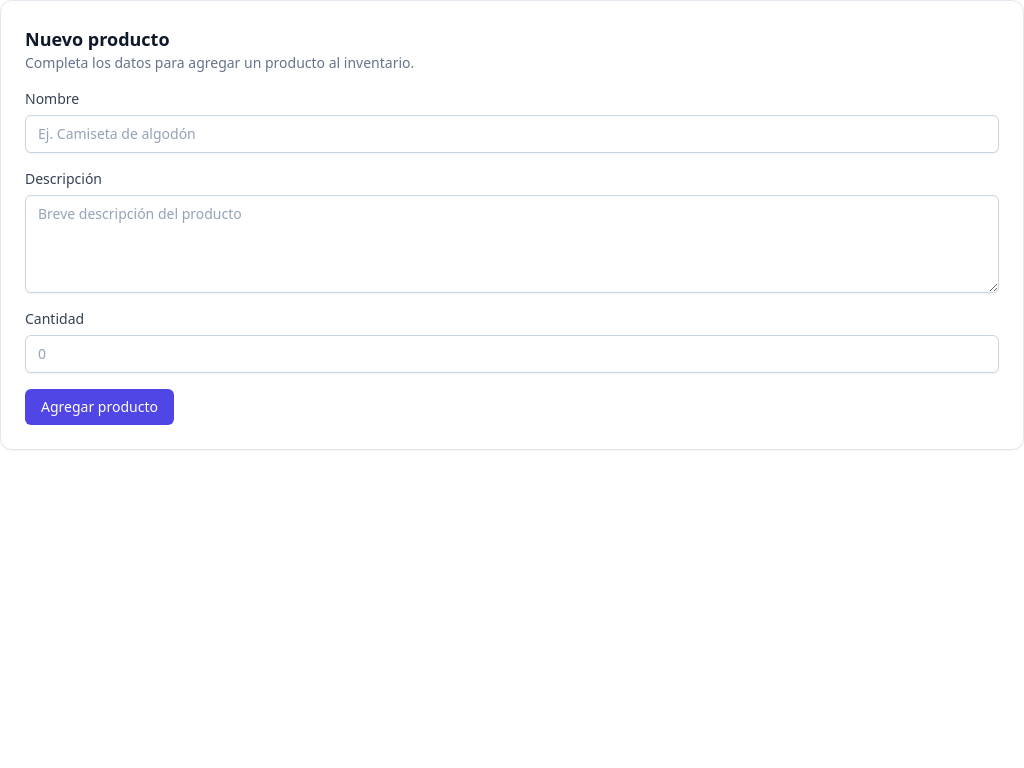
Scenario: ProductForm › create mode › shows validation errors when submitting an empty form
What coordinates should you click on to do the following:
click the button "Agregar producto"
I would click on:
 (99, 407)
Its box is [25,389,174,425].
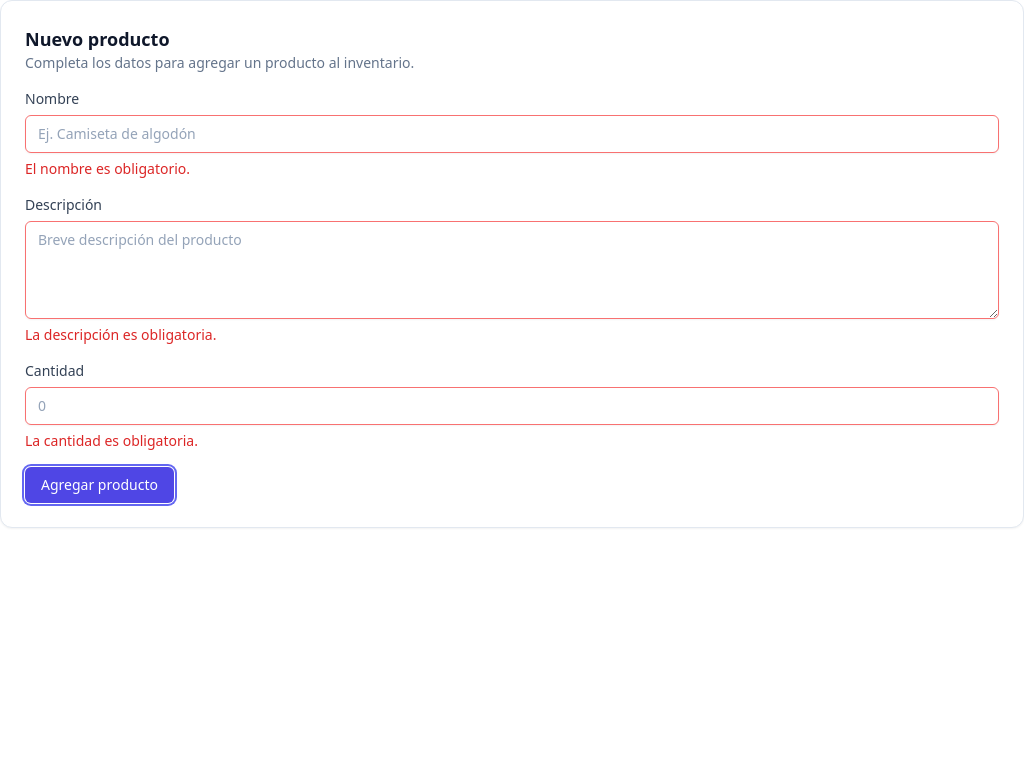
Expected: the text "El nombre es obligatorio." is shown, [25,159,190,178]
Expected: the text "La descripción es obligatoria." is shown, [25,325,216,344]
Expected: the text "La cantidad es obligatoria." is shown, [25,431,198,450]
